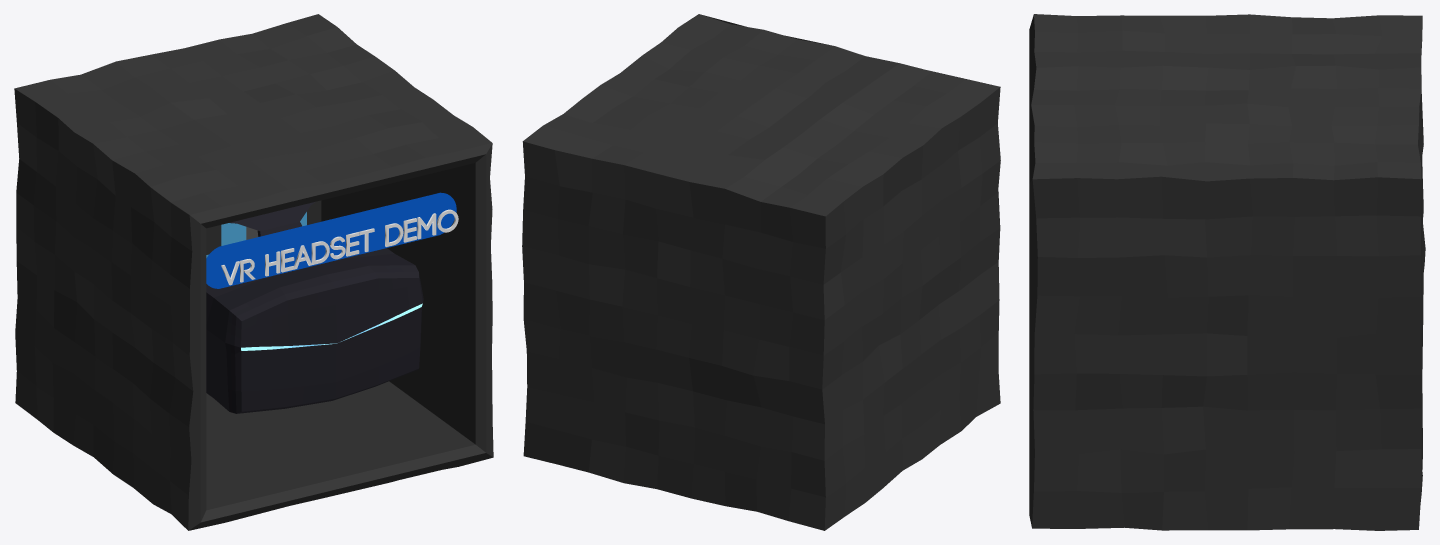
The picture shows the model from 3 angles, left to right: view 1: azimuth 30°, elevation 25°; view 2: azimuth 150°, elevation 25°; view 3: azimuth 270°, elevation 25°; orthographic projection. The views are drawn at different scales.
Parts seen in each view (by area): view 1: Cube, Cube.001, Circle, Text.001; view 2: Cube; view 3: Cube.
Boxes of the visible parts, x1,y1,x2,y2 form: Cube: [14, 14, 493, 530]; Cube.001: [206, 201, 423, 413]; Circle: [206, 192, 456, 288]; Text.001: [221, 209, 458, 285]; Cube: [522, 14, 1000, 530]; Cube: [1029, 14, 1425, 530].
Size of the model in its own units: 2.03 by 2.03 by 2.05.
